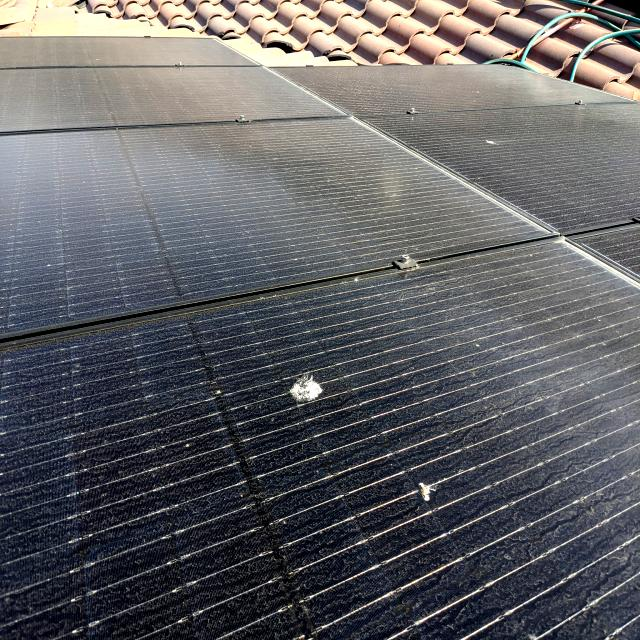bird: (267, 352, 338, 434), (398, 446, 448, 550), (472, 114, 510, 174)
